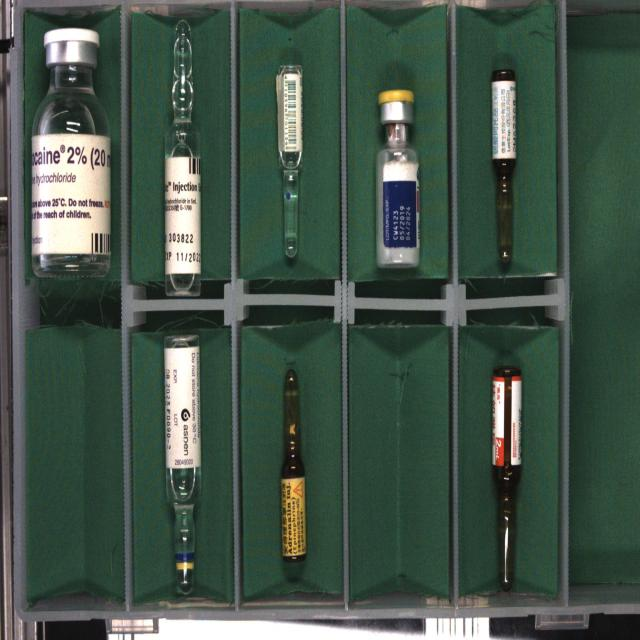Vials: (31, 28, 110, 277), (376, 89, 419, 267)
